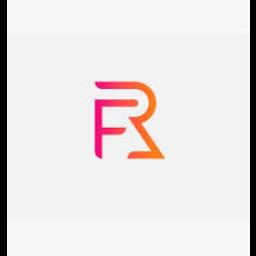f: (88, 97, 128, 159)
